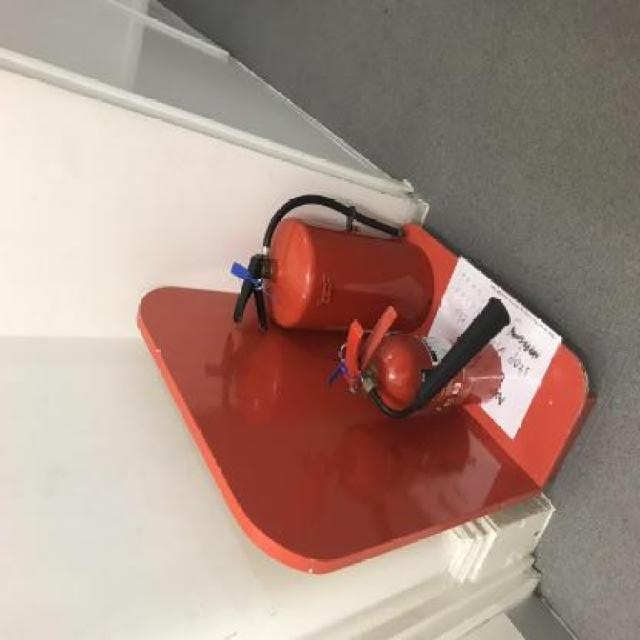fire extinguisher: (232, 191, 433, 332), (343, 296, 511, 418)
